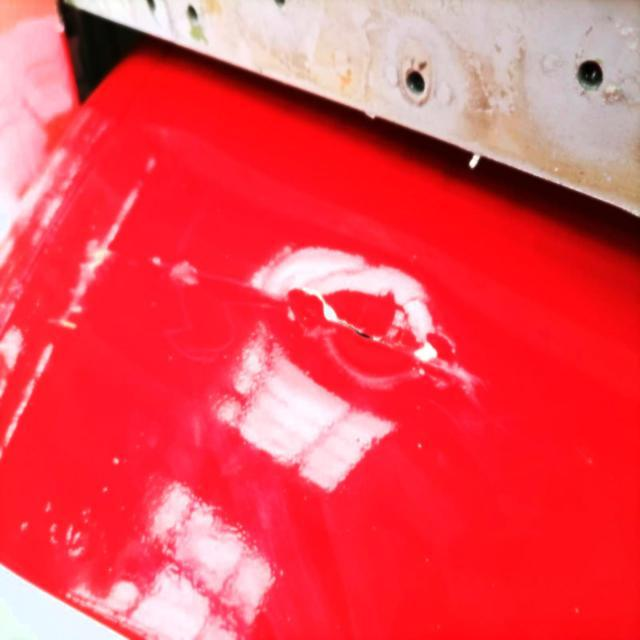crack: (224, 262, 491, 401)
